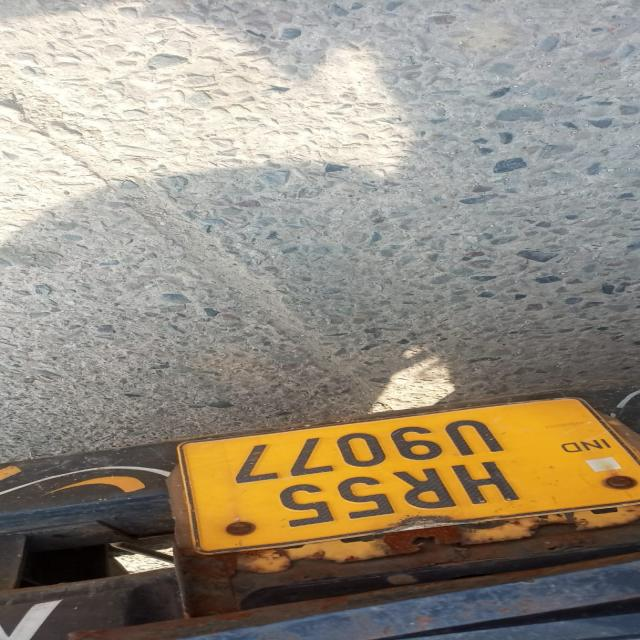License-plate: (175, 415, 567, 529)
